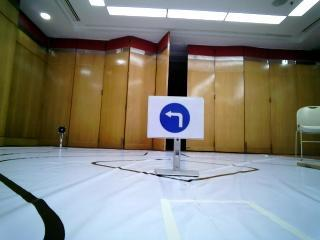left: (154, 98, 201, 137)
